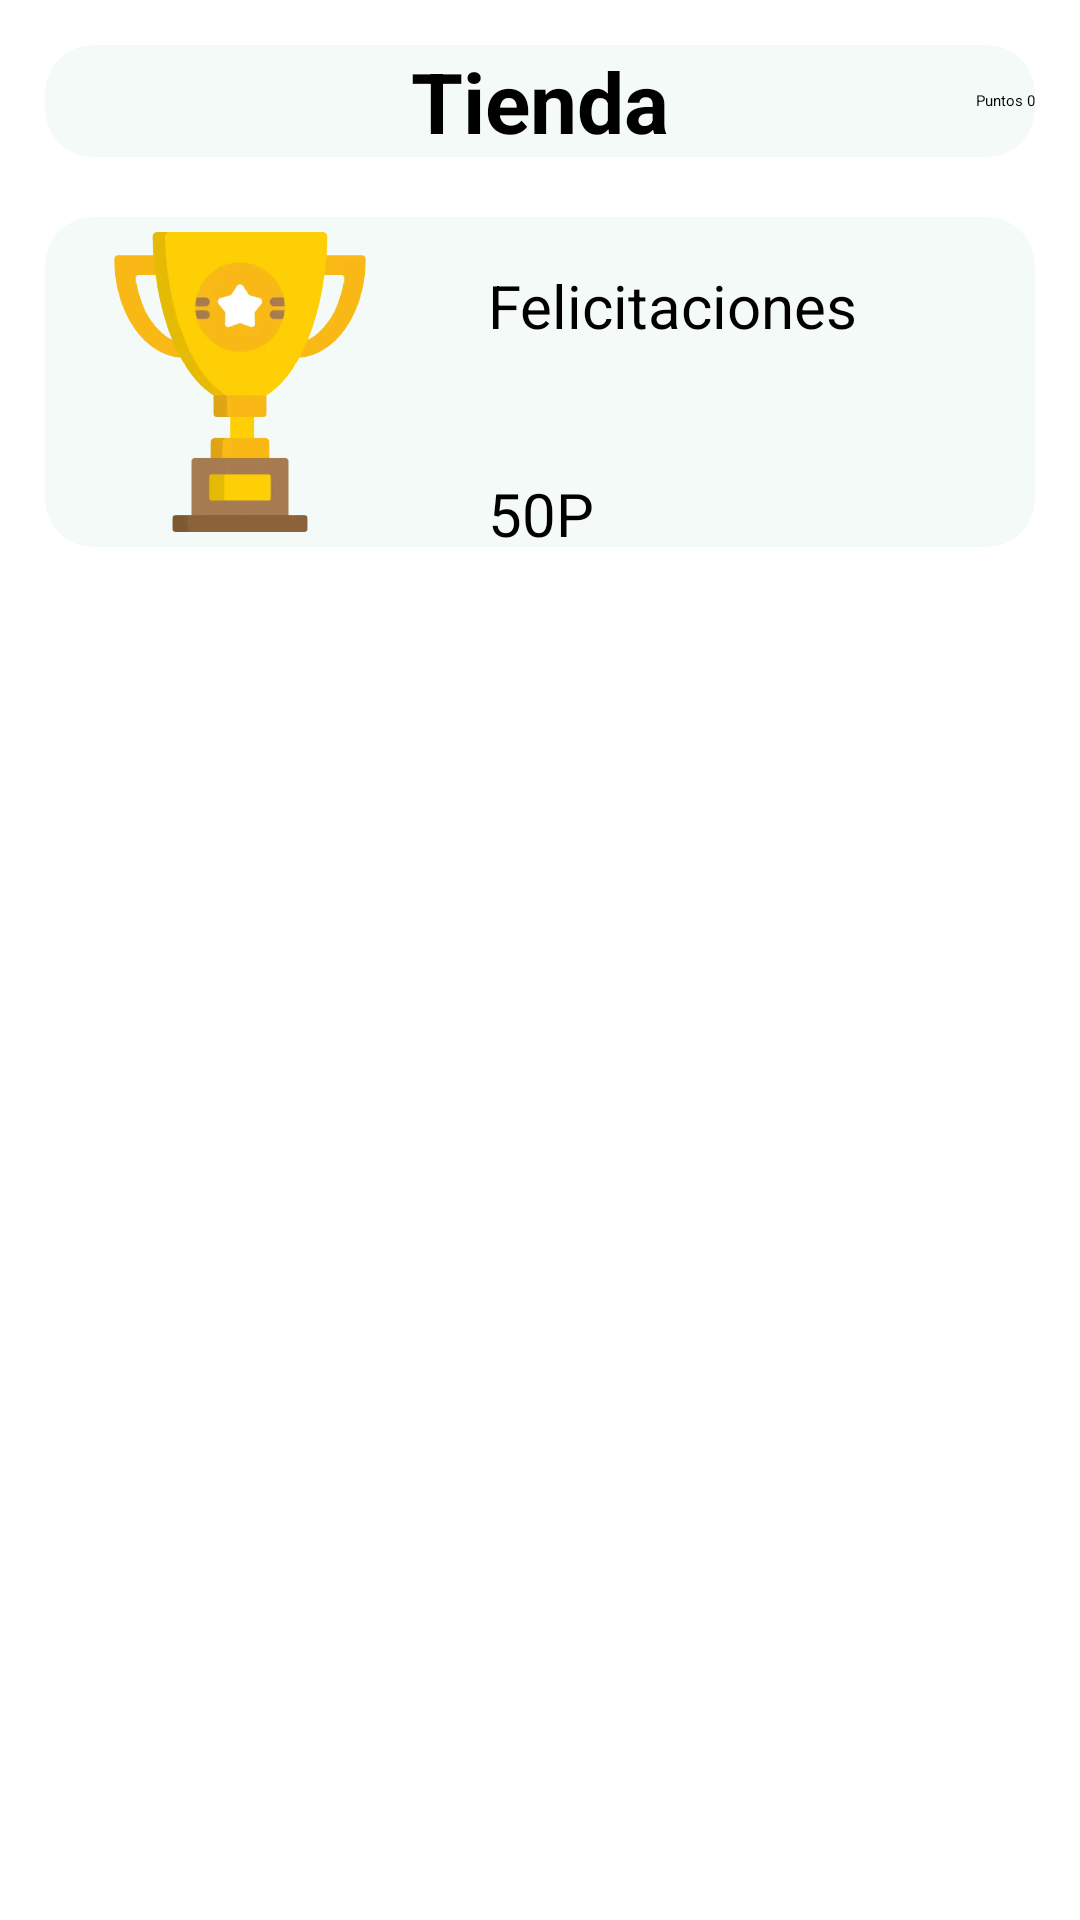

Locate icon controls on the screen. Image size 1080*1920, boxes as (x1, y1, x2, y2).
trofeo: (114, 232, 366, 532)
